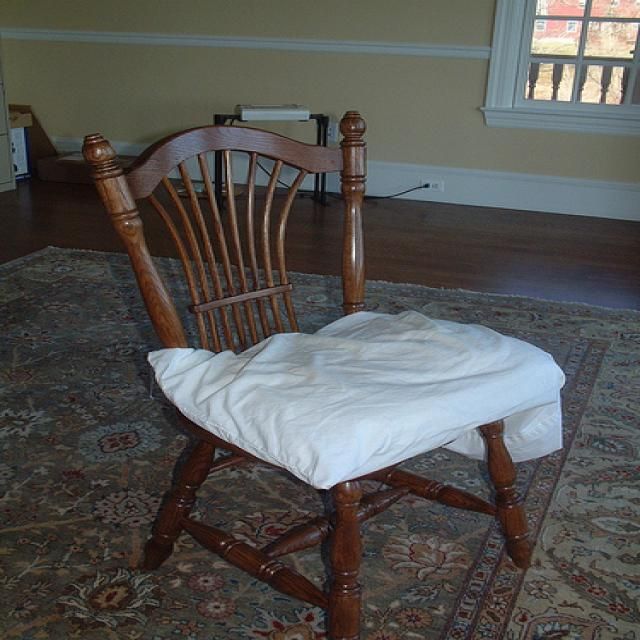chair: (67, 108, 569, 640)
